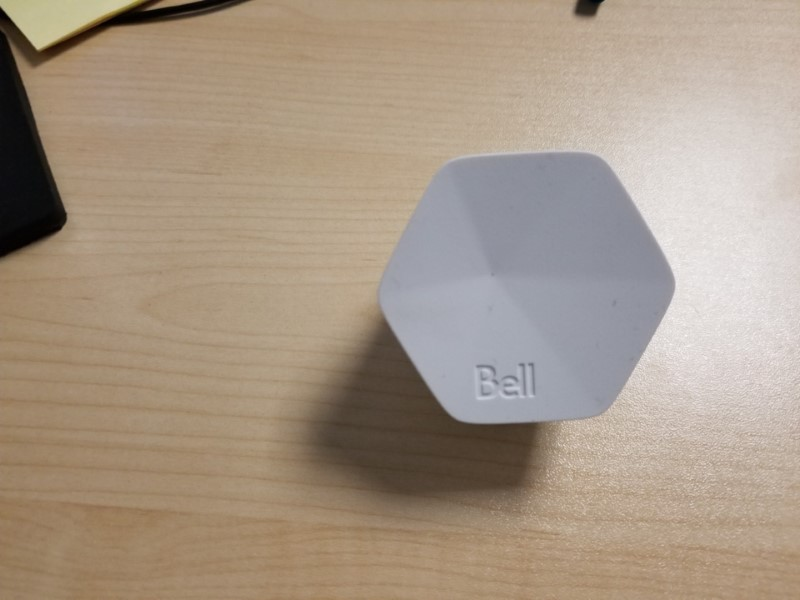pod: (372, 142, 682, 429)
